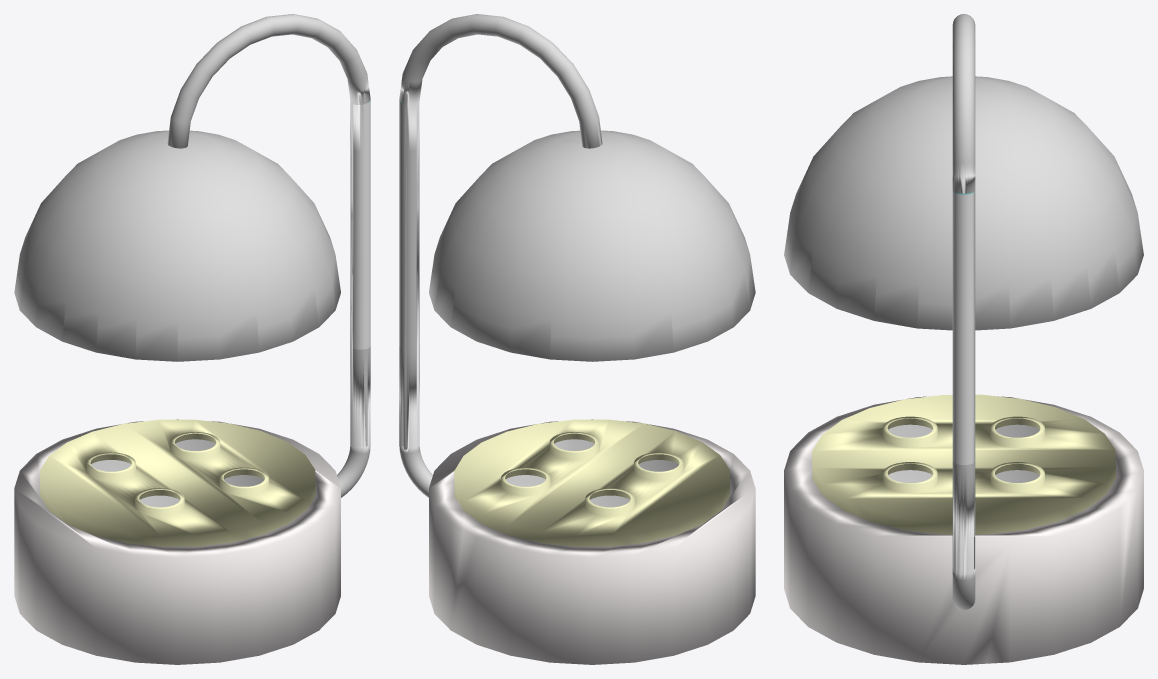
File: pot.fbx
The picture shows the model from 3 angles, left to right: view 1: azimuth 30°, elevation 25°; view 2: azimuth 150°, elevation 25°; view 3: azimuth 270°, elevation 25°; orthographic projection. The views are drawn at different scales.
Parts seen in each view (by area): view 1: Model; view 2: Model; view 3: Model.
Boxes of the visible parts, bbox=[...] form: Model: bbox=[14, 14, 370, 664]; Model: bbox=[399, 14, 755, 664]; Model: bbox=[784, 14, 1143, 664].
Size of the model in its own units: 18.53 by 29.57 by 15.75.
